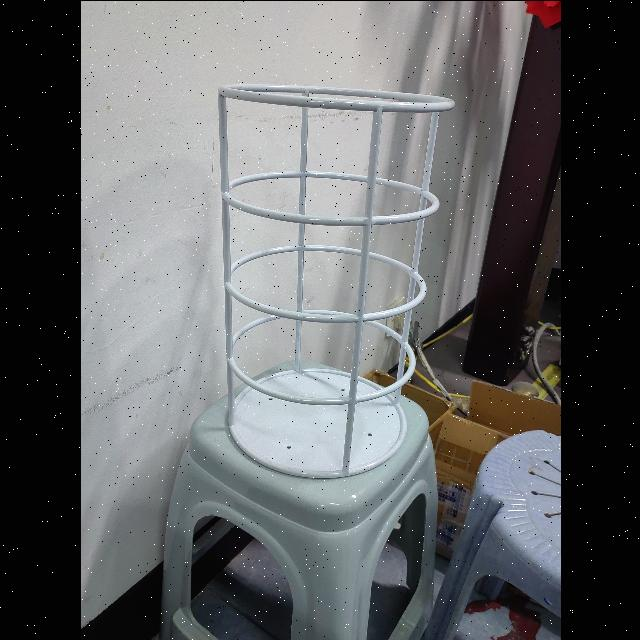S: (215, 78, 460, 484)
